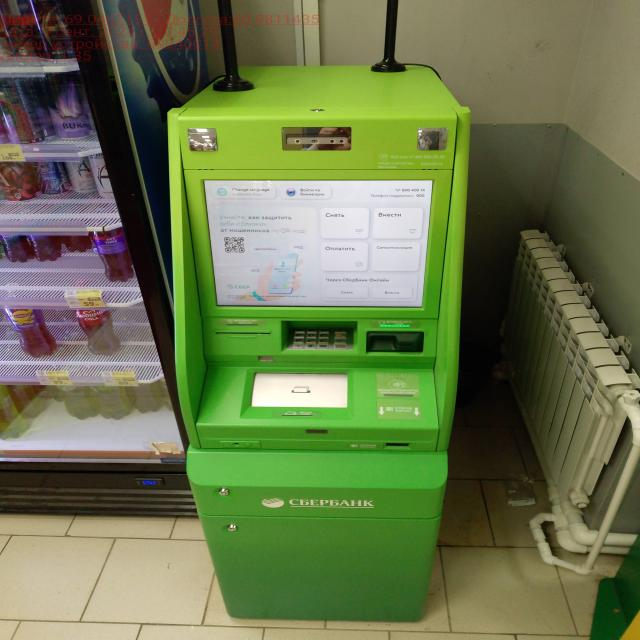bank: (168, 62, 470, 625)
